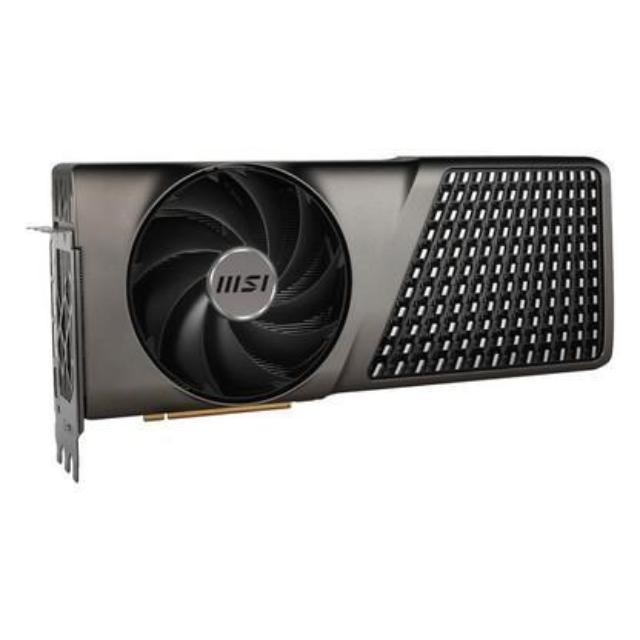GPU: (47, 155, 621, 430)
